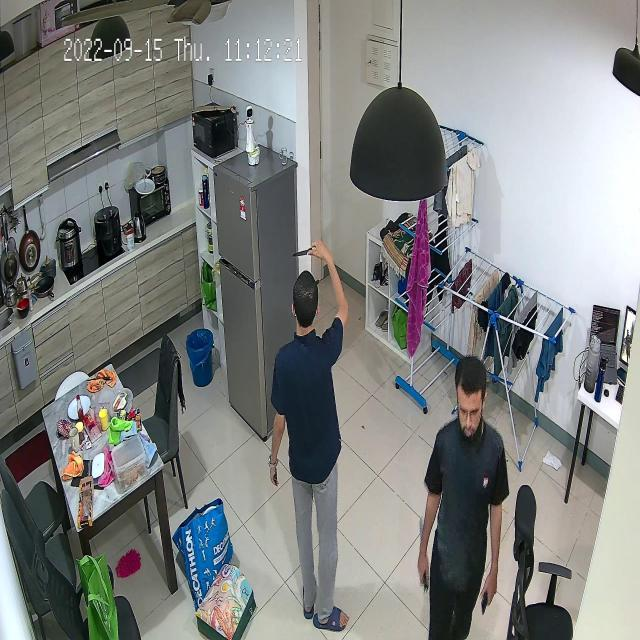Knife: (288, 238, 324, 264)
